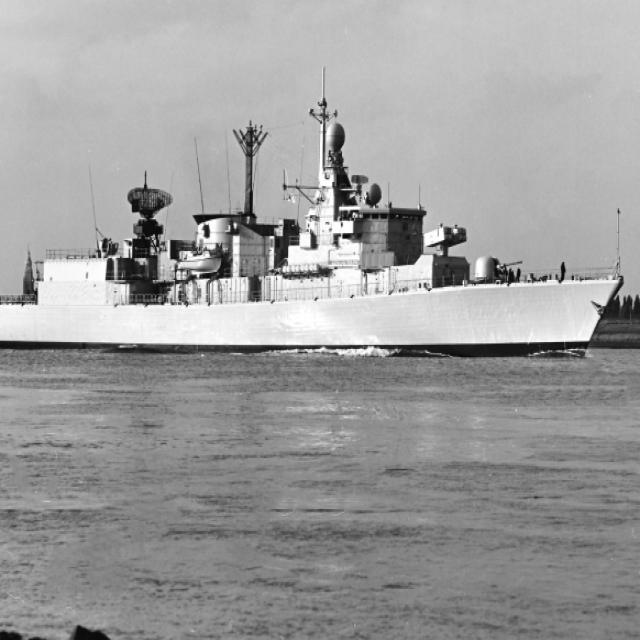Fragata: (1, 64, 627, 357)
